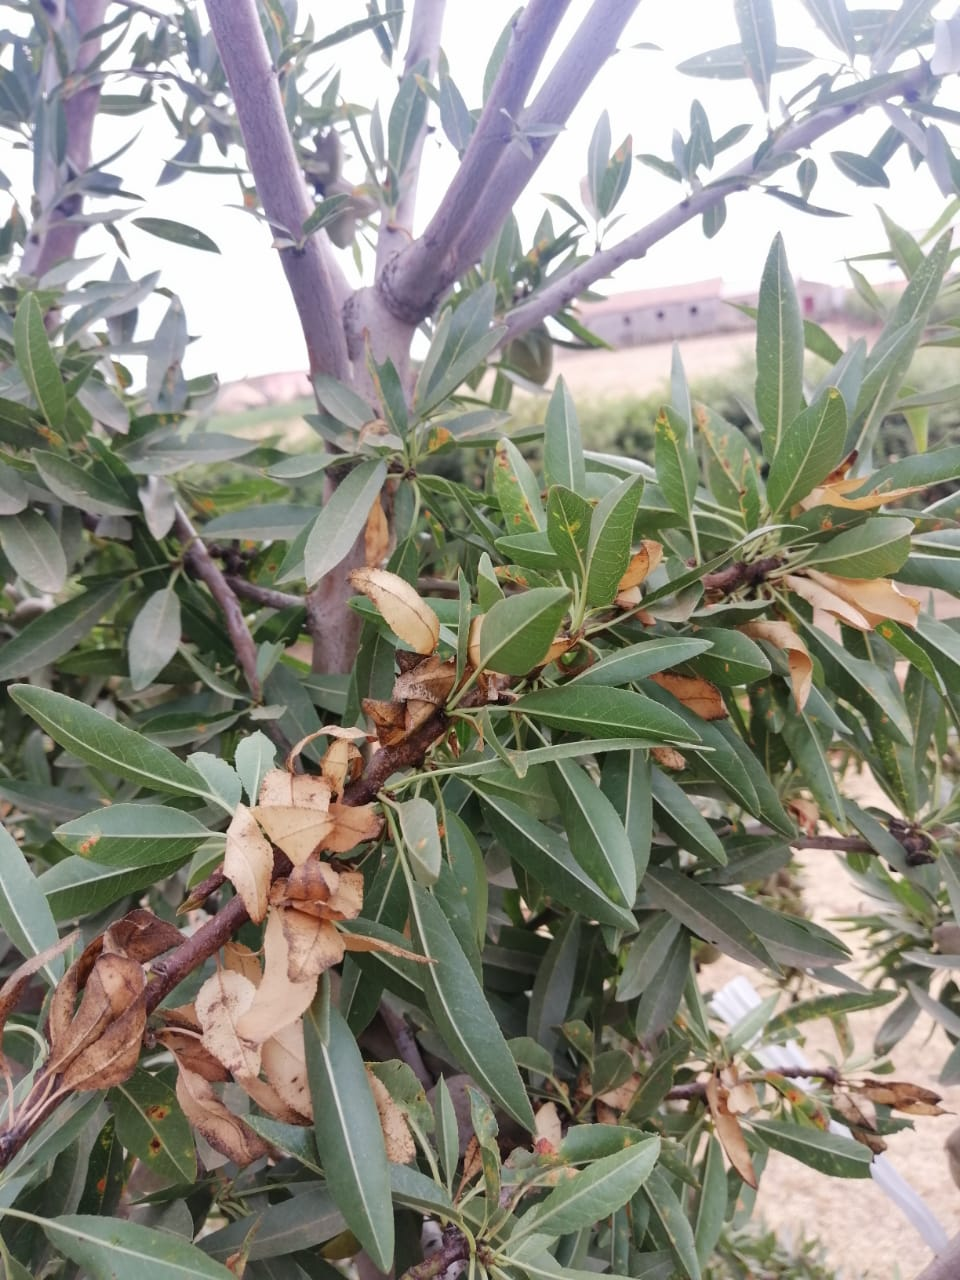scolytes: (25, 454, 917, 1163), (586, 1057, 960, 1190)
